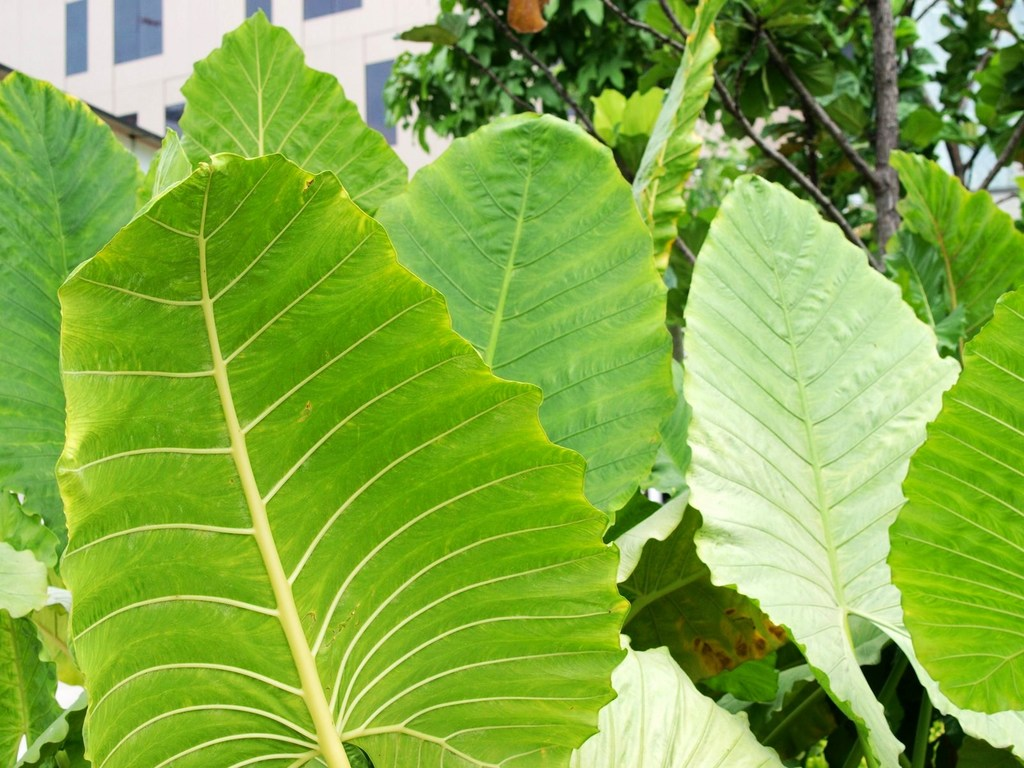Tree: (0, 4, 1024, 768), (382, 0, 1024, 767)
